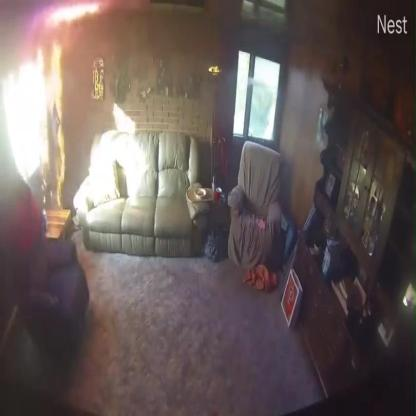fire: (34, 35, 68, 209), (18, 1, 103, 30)
